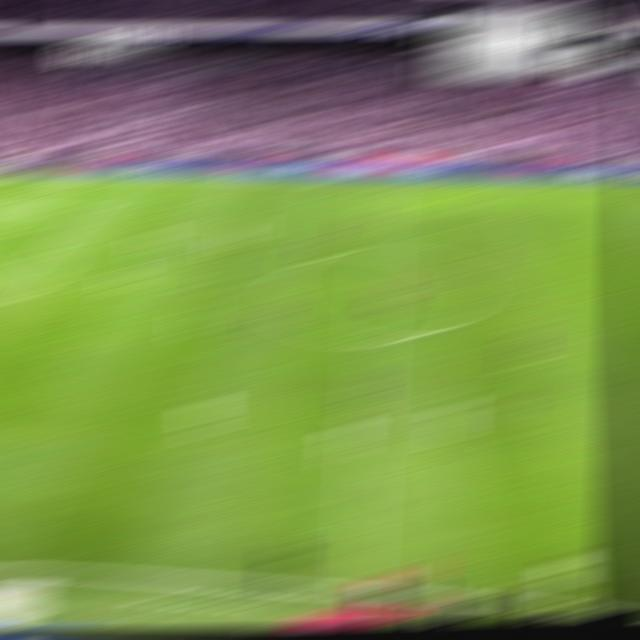bigarea_top_inner: (75, 205, 103, 214)
corner: (4, 171, 33, 178)
halfcircle_bottom: (354, 327, 387, 350)
halfcircle_top: (359, 241, 392, 258)
midline_bottom_intersection: (338, 577, 374, 599)
midline_top_intersection: (366, 174, 394, 184)
top_arc_area_intersection: (29, 244, 58, 253)
